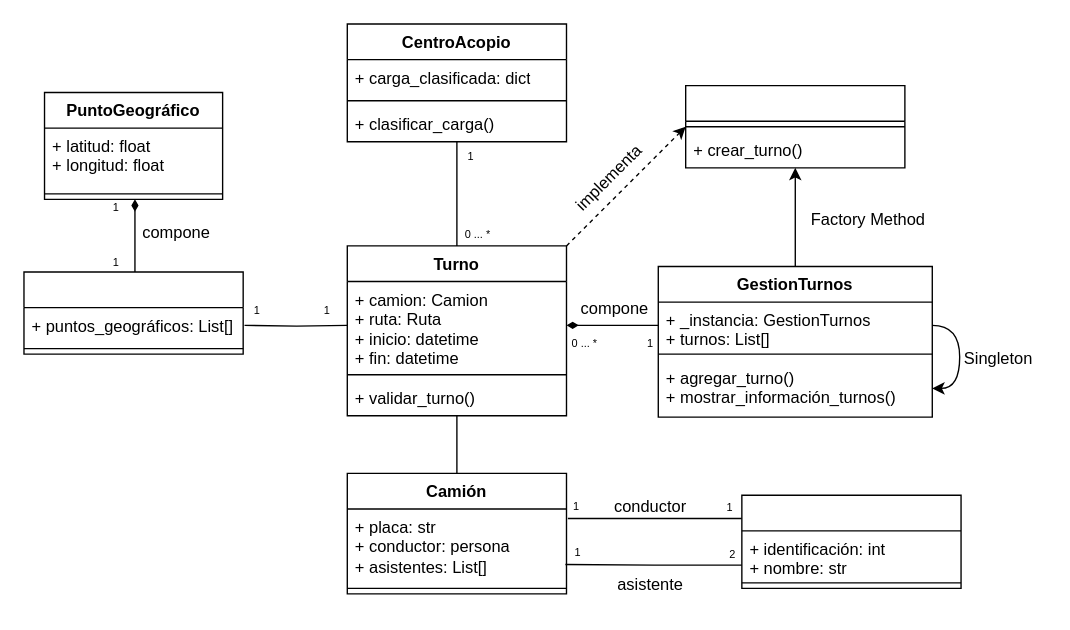
The diagram is 1070 pixels wide and 630 high, and some of its shapes have lost their labels. The shapes that lost their labels are listed below. From the top down, each one's box as (x1, y1, x2, y2) in pixels, then its label:
(684, 84, 905, 168): TurnoFactory
(23, 271, 243, 354): Ruta
(740, 494, 961, 588): Persona
